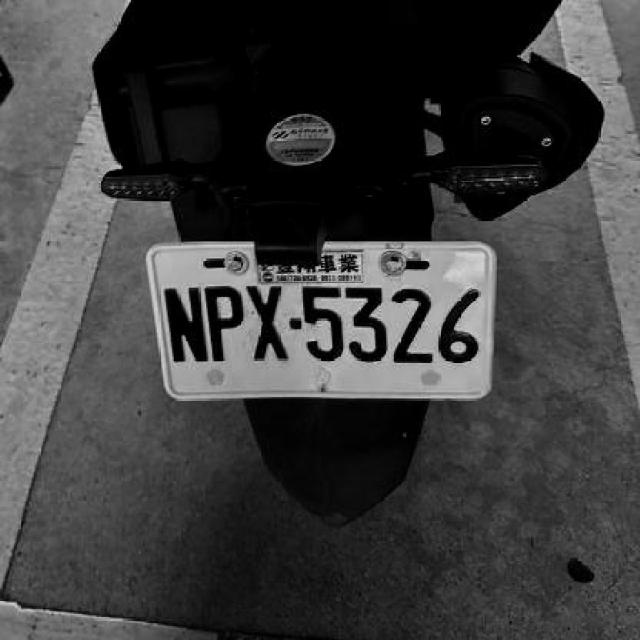-: (289, 320, 302, 331)
2: (388, 284, 434, 364)
3: (344, 283, 388, 362)
5: (300, 285, 343, 360)
6: (436, 282, 484, 363)
N: (161, 284, 208, 365)
P: (201, 281, 244, 363)
X: (245, 281, 293, 361)
